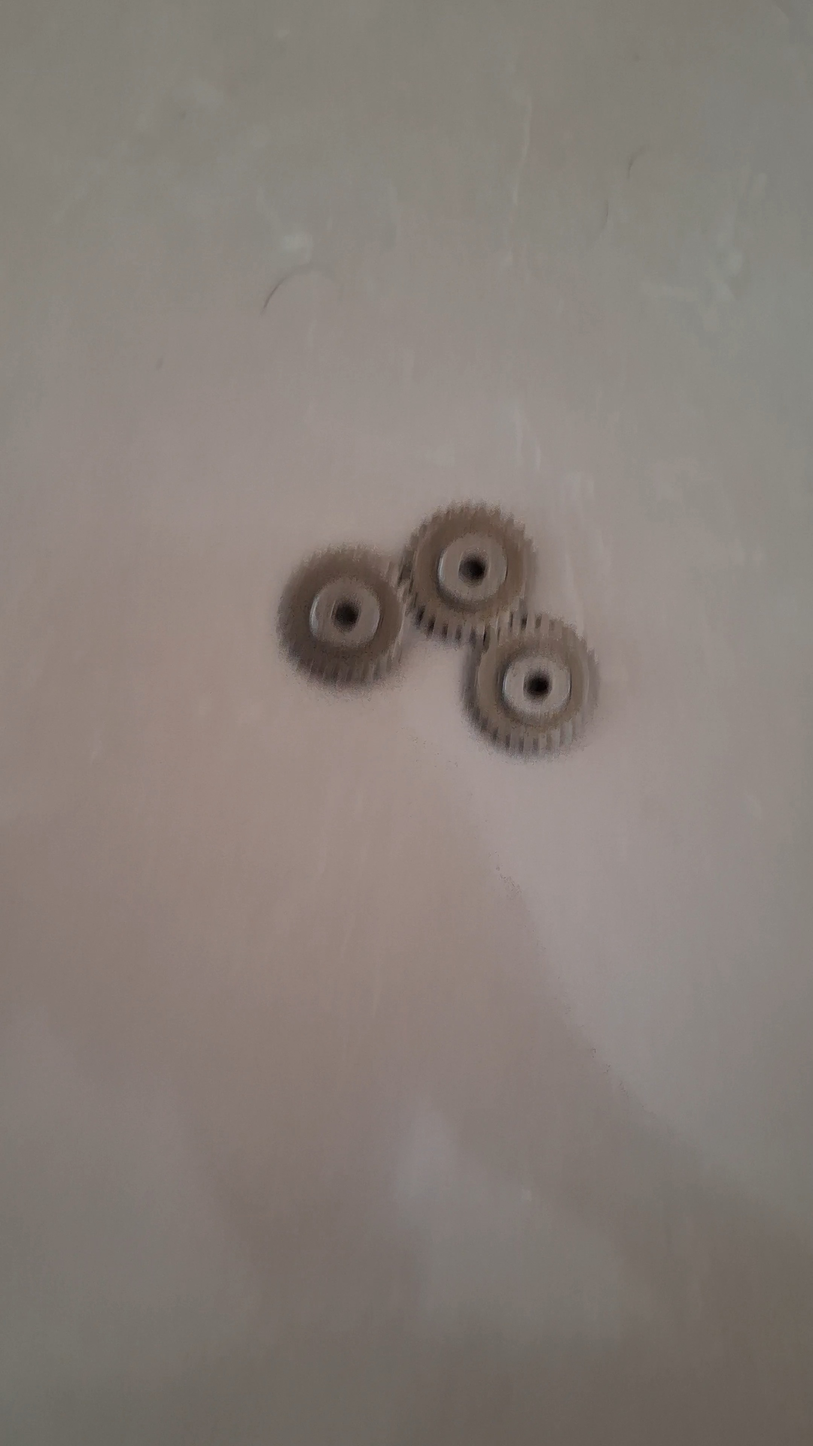spur gear: (468, 611, 597, 752), (401, 504, 532, 642), (279, 548, 405, 685)
